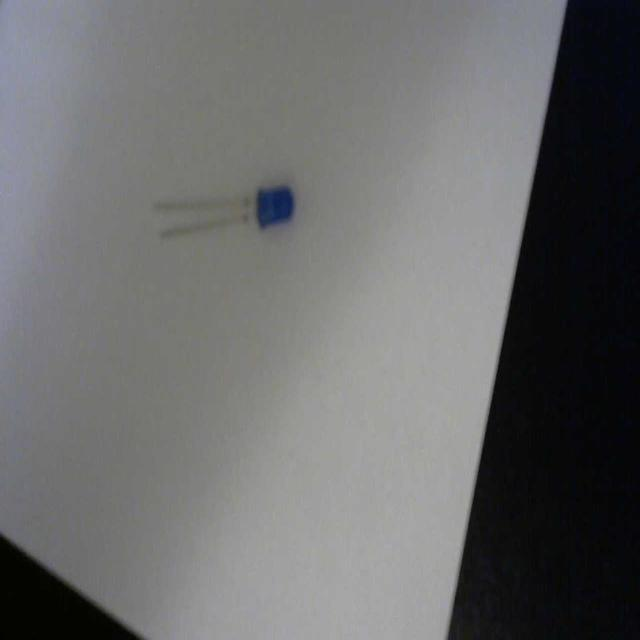blue_led: (256, 185, 294, 228)
